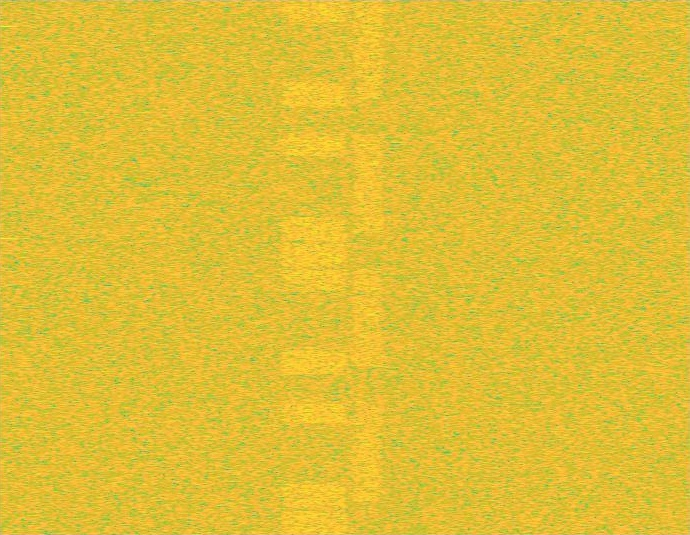5G: (351, 0, 386, 534)
LTE: (280, 0, 349, 534)
Radar: (0, 0, 14, 534)
